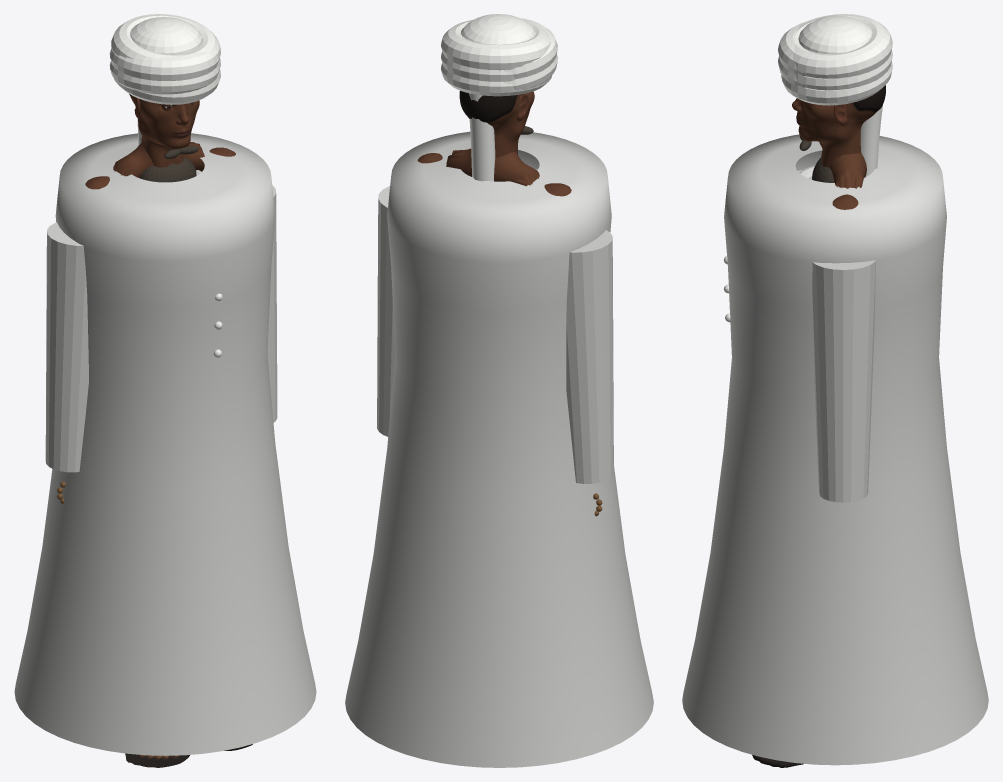
The model's file is ust-aqsal.glb.
The picture shows the model from 3 angles, left to right: view 1: azimuth 30°, elevation 25°; view 2: azimuth 150°, elevation 25°; view 3: azimuth 270°, elevation 25°; orthographic projection. The views are drawn at different scales.
Visible parts, largest first — view 1: GEO-jubah, GEO-lengan-kanan, maasai-style-herder_head, GEO-serban-4, GEO-serban-puncak, GEO-serban-5, maasai-style-herder_body, GEO-lengan-kiri, GEO-serban-2, GEO-serban-1, GEO-jenggot, maasai-style-herder_sandals; view 2: GEO-jubah, GEO-lengan-kanan, GEO-lengan-kiri, GEO-serban-5, maasai-style-herder_head, maasai-style-herder_body, GEO-serban-puncak, GEO-ekor-serban, GEO-serban-1, GEO-serban-3, GEO-serban-4, GEO-serban-2; view 3: GEO-jubah, GEO-lengan-kiri, maasai-style-herder_head, GEO-serban-5, GEO-serban-puncak, GEO-serban-1, maasai-style-herder_body, GEO-serban-3, GEO-ekor-serban, GEO-serban-4.
Part boxes in pixels (bbox=[...]): GEO-jubah: bbox=[14, 133, 316, 755]; GEO-lengan-kanan: bbox=[45, 222, 88, 472]; maasai-style-herder_head: bbox=[129, 94, 199, 167]; GEO-serban-4: bbox=[109, 48, 219, 80]; GEO-serban-puncak: bbox=[130, 17, 202, 54]; GEO-serban-5: bbox=[111, 14, 220, 59]; maasai-style-herder_body: bbox=[85, 142, 235, 759]; GEO-lengan-kiri: bbox=[267, 185, 277, 422]; GEO-serban-2: bbox=[109, 61, 219, 94]; GEO-serban-1: bbox=[114, 69, 220, 104]; GEO-jenggot: bbox=[139, 158, 196, 182]; maasai-style-herder_sandals: bbox=[125, 744, 252, 767]; GEO-jubah: bbox=[345, 131, 653, 767]; GEO-lengan-kanan: bbox=[566, 230, 613, 483]; GEO-lengan-kiri: bbox=[377, 186, 395, 436]; GEO-serban-5: bbox=[441, 19, 551, 70]; maasai-style-herder_head: bbox=[459, 90, 534, 157]; maasai-style-herder_body: bbox=[417, 148, 571, 196]; GEO-serban-puncak: bbox=[460, 14, 535, 44]; GEO-ekor-serban: bbox=[469, 93, 495, 181]; GEO-serban-1: bbox=[441, 63, 552, 96]; GEO-serban-3: bbox=[441, 51, 521, 81]; GEO-serban-4: bbox=[504, 18, 557, 78]; GEO-serban-2: bbox=[504, 54, 557, 90]; GEO-jubah: bbox=[682, 134, 988, 765]; GEO-lengan-kiri: bbox=[812, 260, 875, 502]; maasai-style-herder_head: bbox=[792, 85, 885, 166]; GEO-serban-5: bbox=[793, 14, 892, 78]; GEO-serban-puncak: bbox=[798, 16, 872, 54]; GEO-serban-1: bbox=[781, 61, 892, 105]; maasai-style-herder_body: bbox=[821, 150, 866, 209]; GEO-serban-3: bbox=[795, 50, 892, 90]; GEO-ekor-serban: bbox=[860, 85, 885, 176]; GEO-serban-4: bbox=[778, 21, 812, 77].
Size of the model in its own units: 0.77 by 1.98 by 0.77.
Materials: 9 (4 with a texture image).
